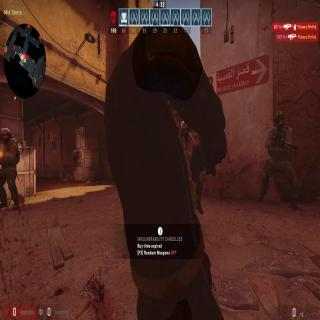CT-Body: (259, 105, 303, 212), (178, 120, 206, 216), (0, 124, 18, 210)
CT-Head: (274, 108, 285, 129), (2, 126, 13, 143), (180, 122, 190, 140)
